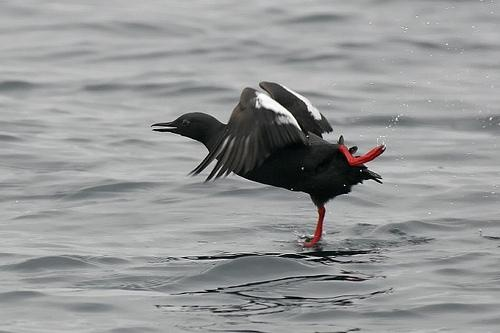bird: (153, 81, 387, 254)
